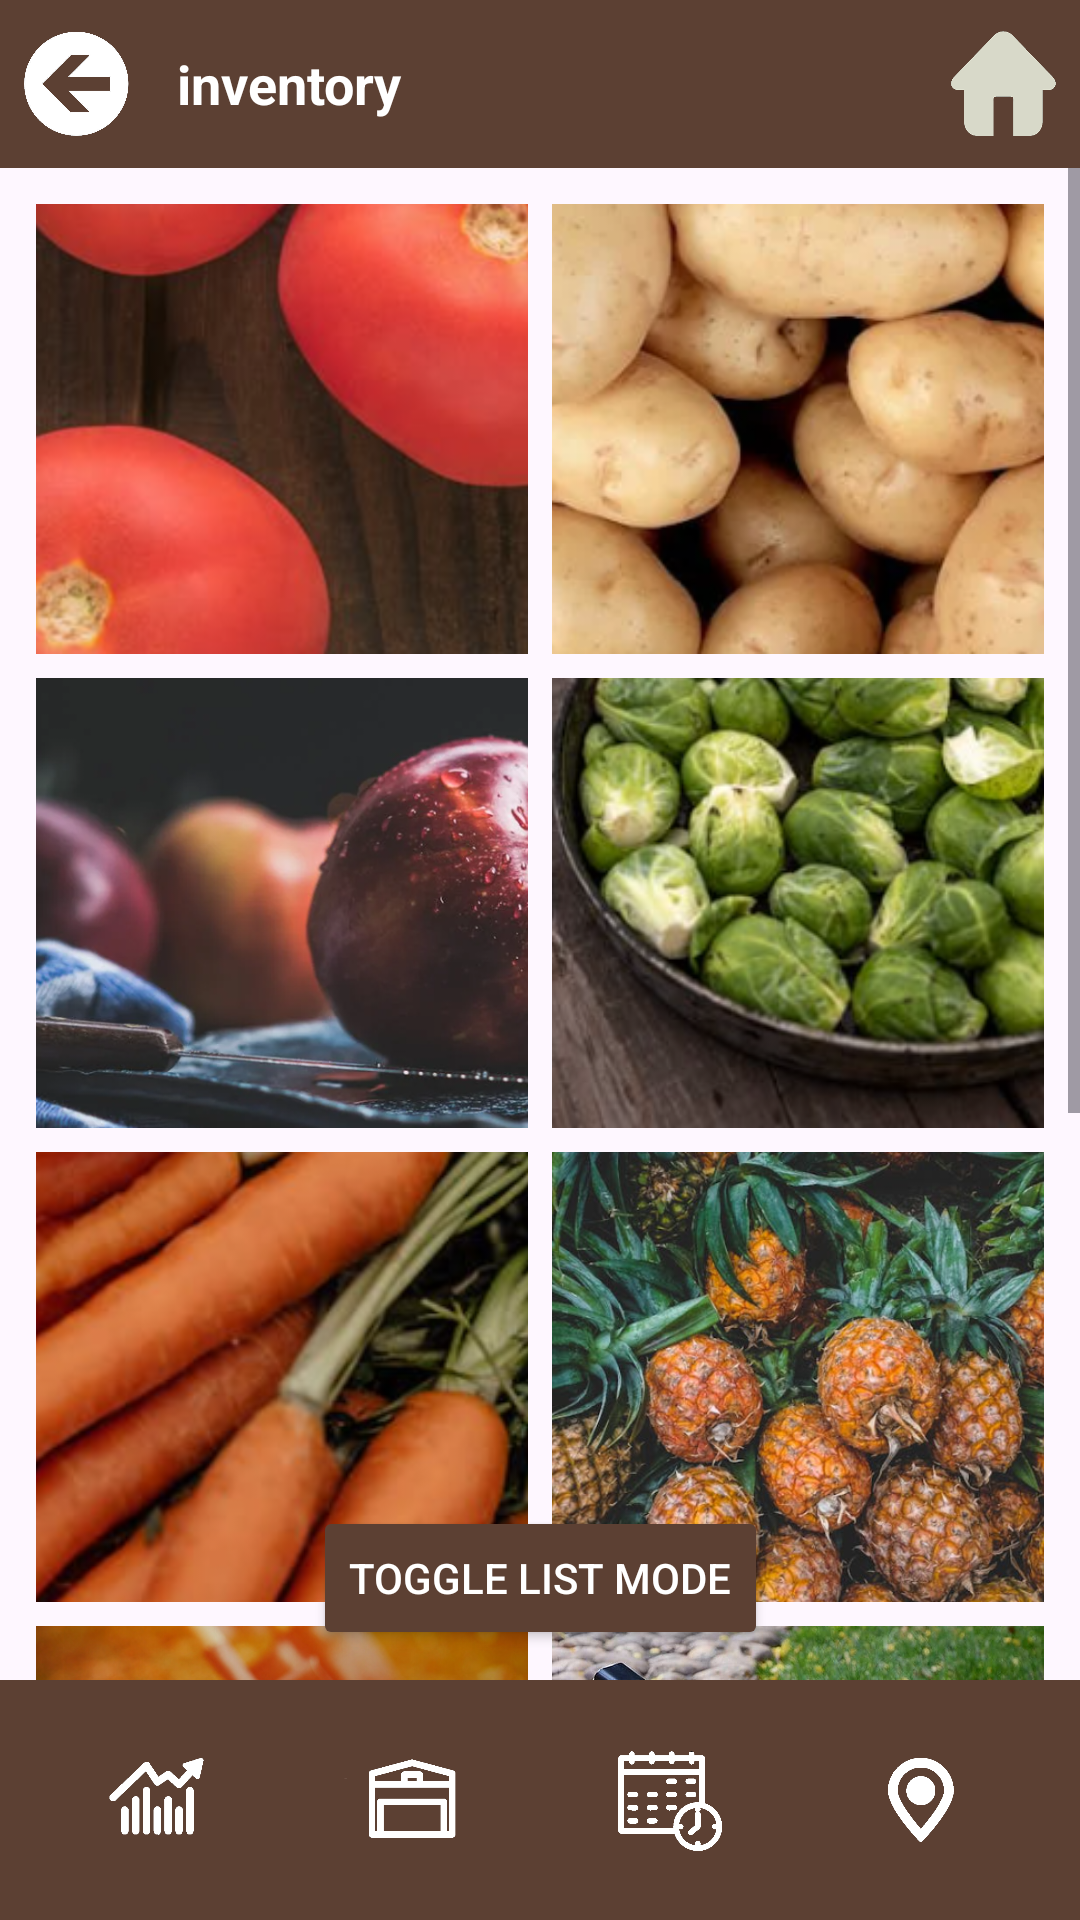

Point at icon controls on the screen. Image size 1080*1920, points as (x,y).
Back: (76,84)
Inventory: (412,1798)
map: (921,1800)
task: (670,1801)
